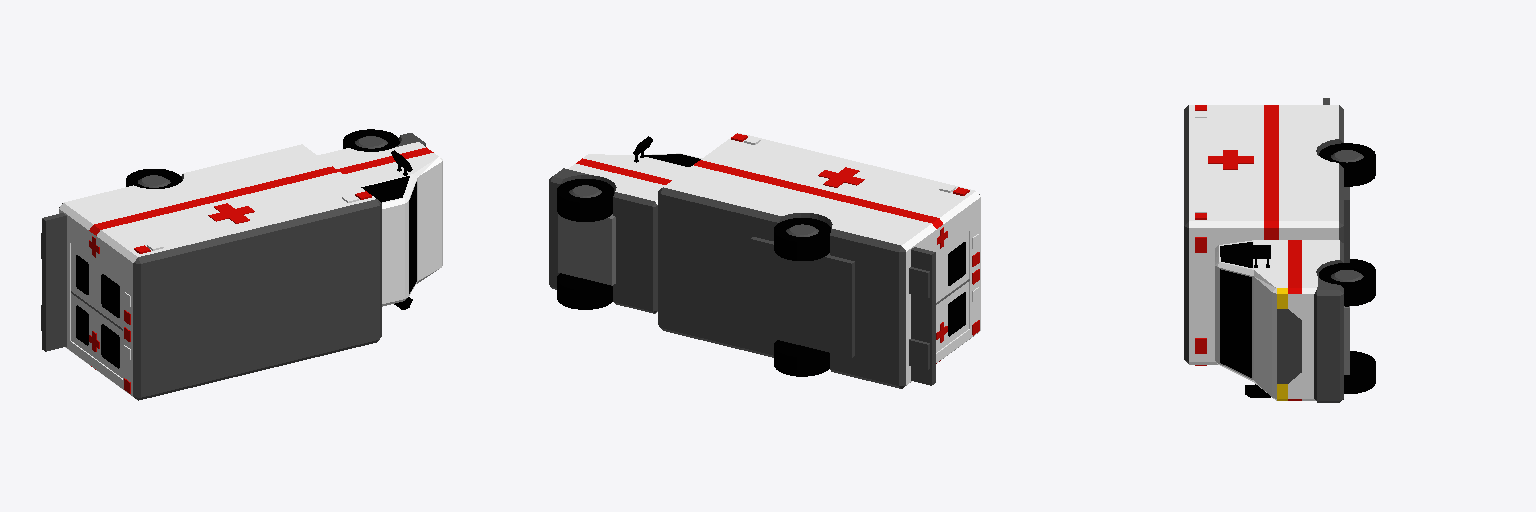
Rendered from Ambulance_01.obj.
3 views of the same model, side by side, from view 1: azimuth 30°, elevation 25°; view 2: azimuth 150°, elevation 25°; view 3: azimuth 270°, elevation 25° (orthographic).
Parts seen in each view (by area): view 1: polySurface4; view 2: polySurface4; view 3: polySurface4.
Part boxes in pixels (left/top/right/bottom): polySurface4: left=41, top=129, right=442, bottom=400; polySurface4: left=549, top=133, right=980, bottom=388; polySurface4: left=1184, top=98, right=1375, bottom=402.
Bounding box in the file's own units: 706 × 272 × 311.